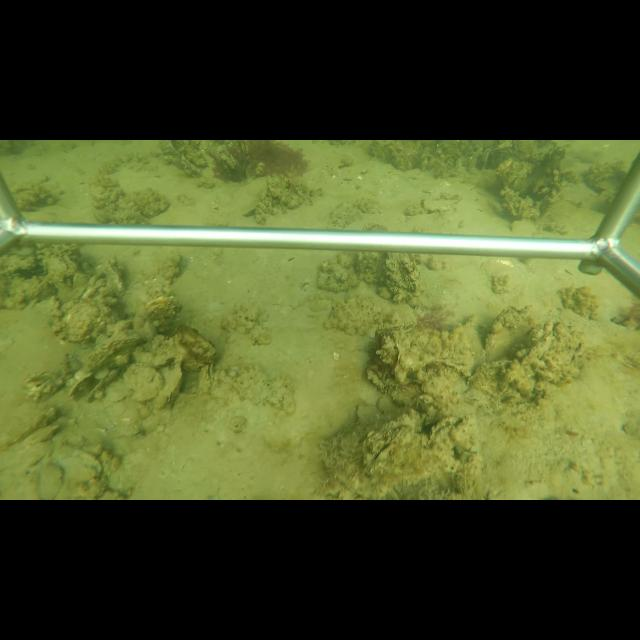Oyster-Closed: (482, 305, 536, 364), (149, 359, 186, 413), (173, 322, 220, 363), (85, 369, 121, 408)
Oyster-Open: (427, 413, 463, 448)
